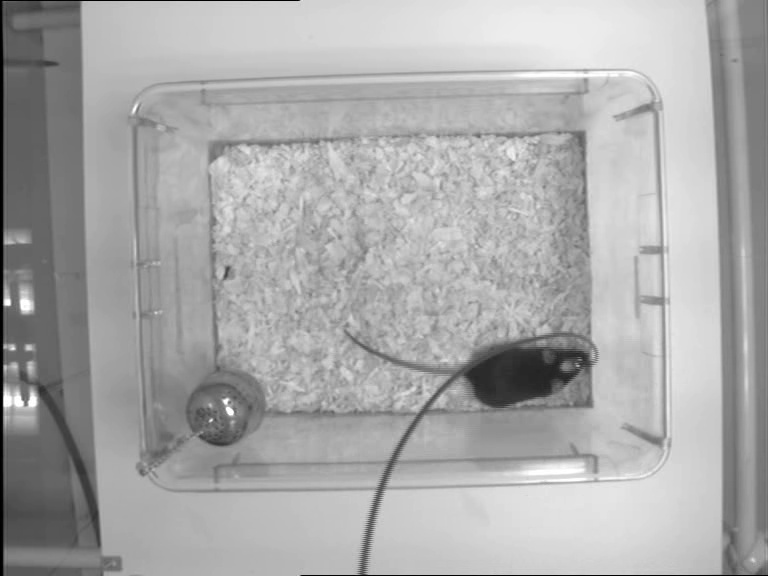mice: (342, 329, 595, 407)
